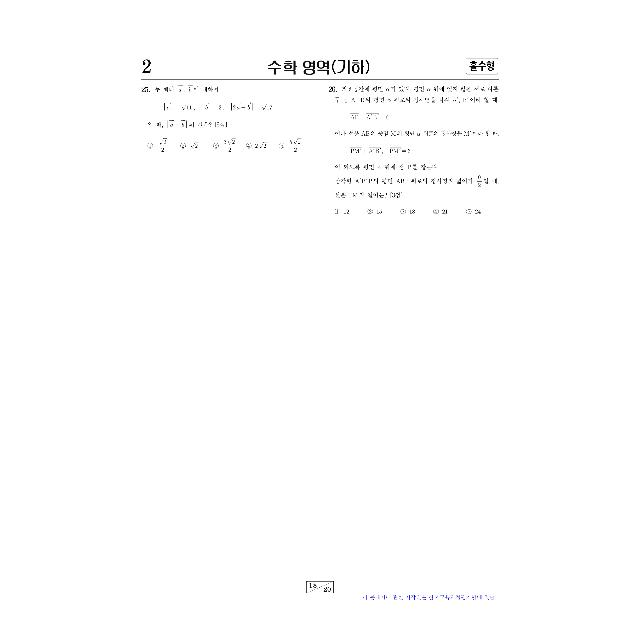multiple: (324, 82, 508, 218), (136, 80, 314, 162)
